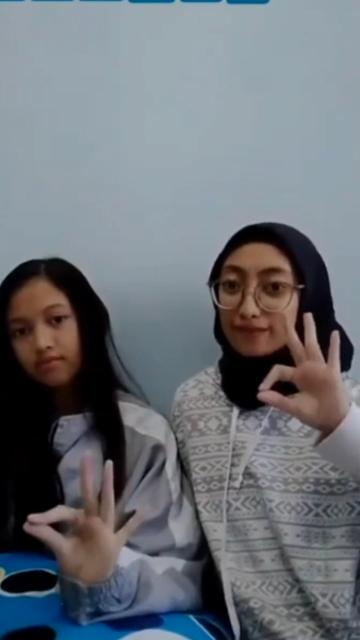F: (19, 452, 154, 576), (252, 308, 352, 424)
